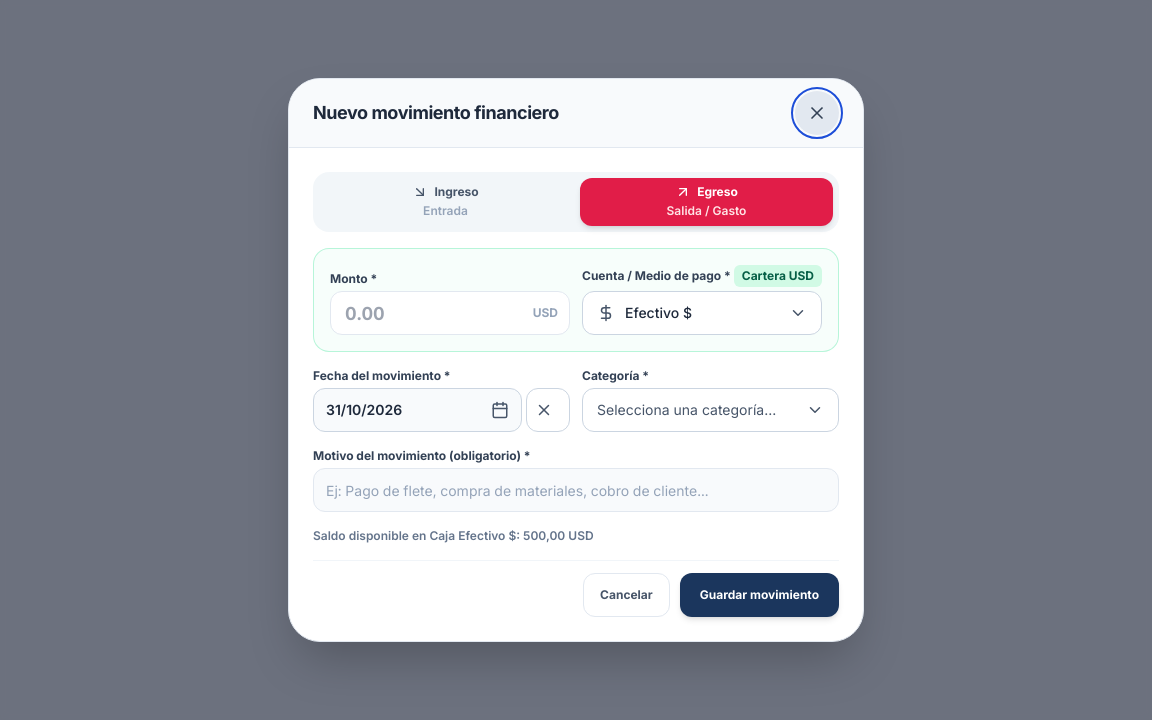
Test case: MovimientoForm › oculta el campo Referencia para métodos en efectivo y lo muestra si el método lo requiere
Click the dropdown "Efectivo $".
click(702, 313)  # box [582,291,822,335]
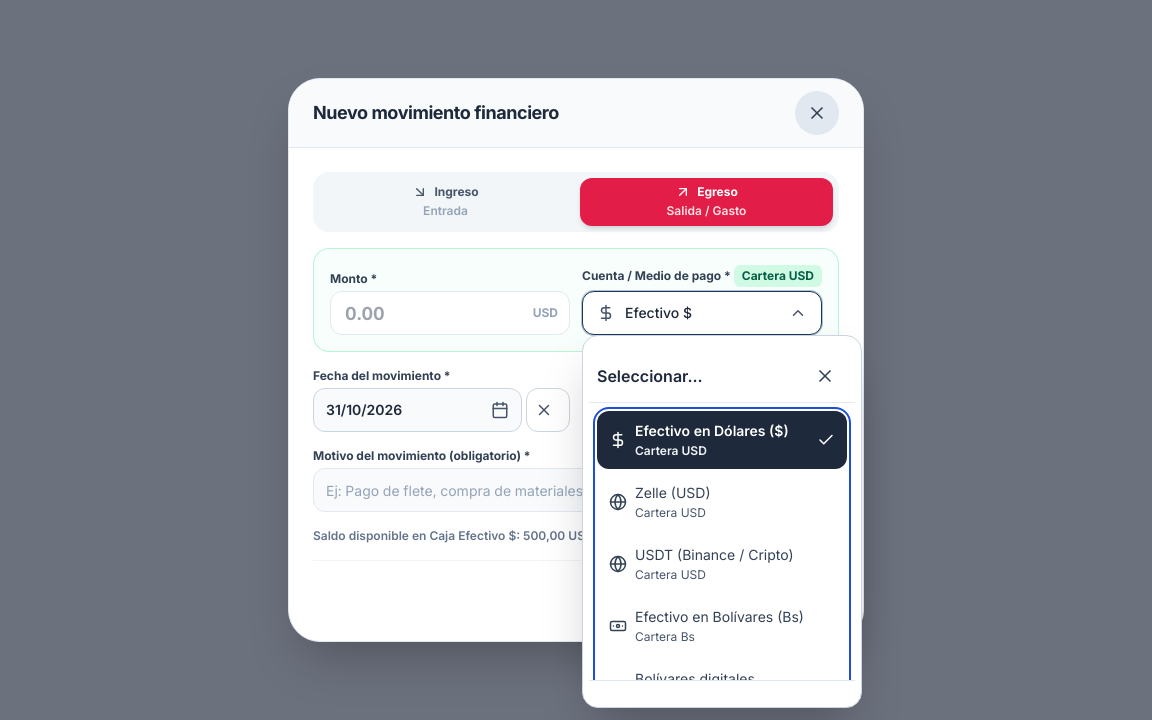
Click the option "Zelle (USD) Cartera USD".
click(722, 502)  # box [597,473,847,531]
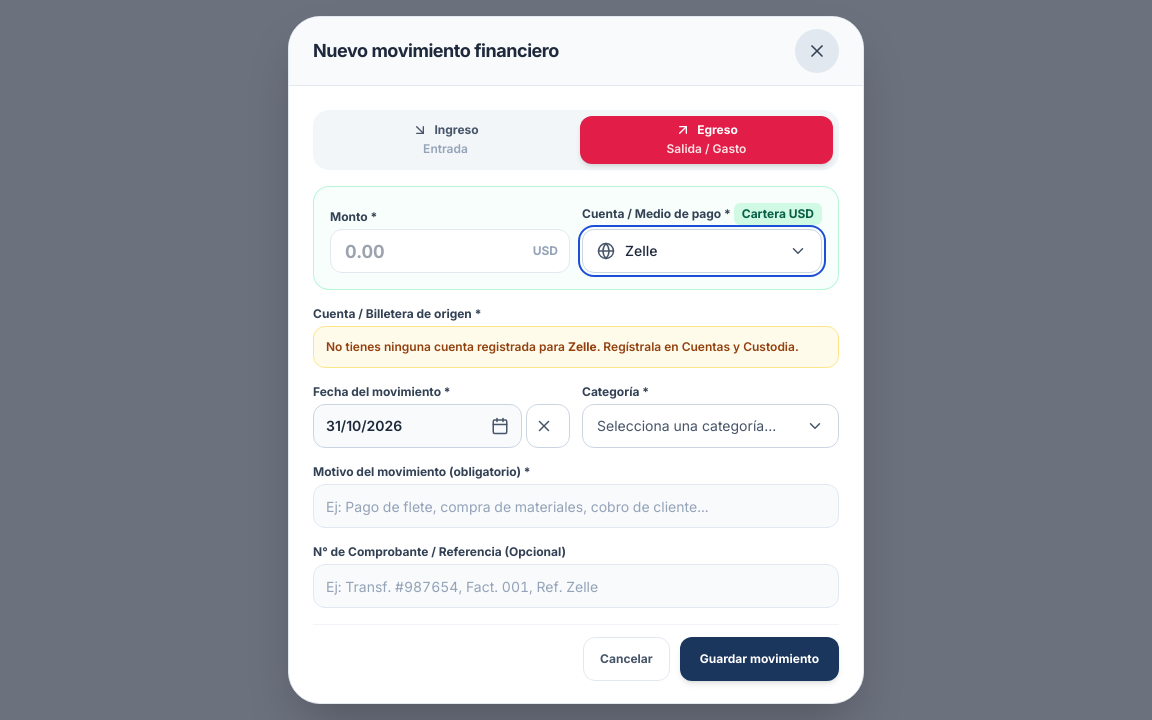
Expected: the field labelled "N° de Comprobante / Referencia (Opcional)" is shown, [313,564,839,608]
